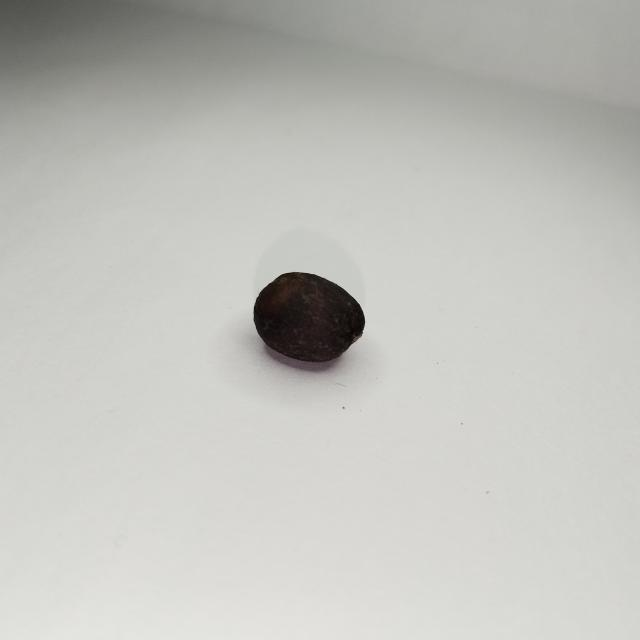Danado: (253, 272, 364, 363)
